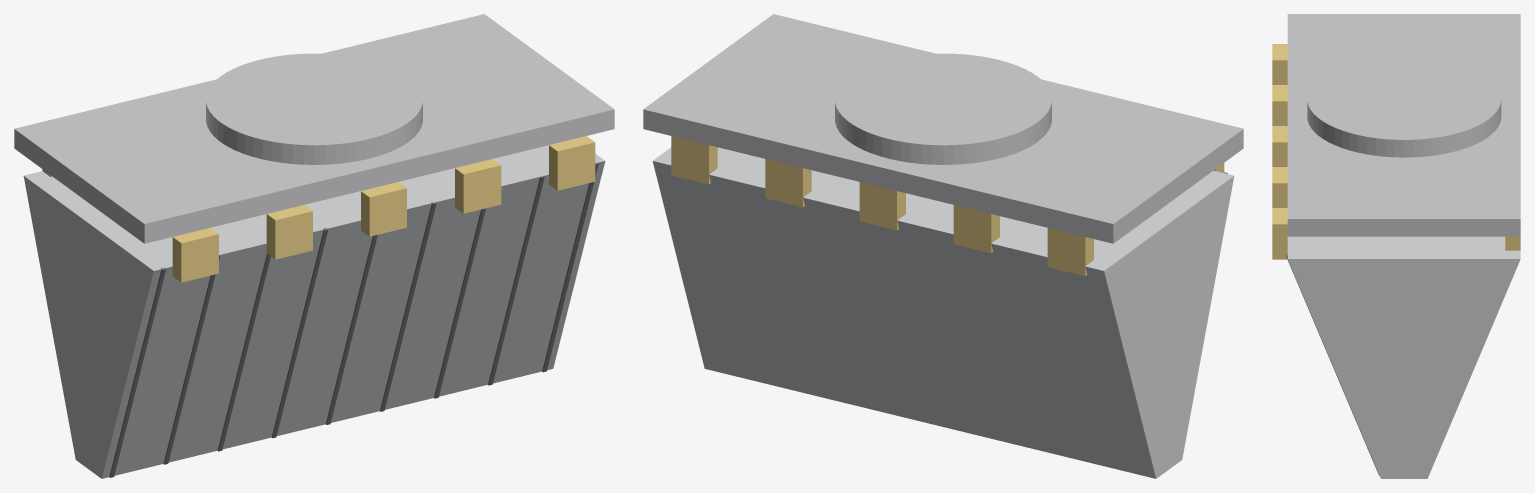
The model's file is prop16_aerospike_linear.glb.
3 renders of one model, left to right at view 1: azimuth 30°, elevation 25°; view 2: azimuth 150°, elevation 25°; view 3: azimuth 270°, elevation 25°, orthographic. The views are drawn at different scales.
Parts seen in each view (by area): view 1: ramps, thrust_structure, mount, chamber_rows, ramp_ribs; view 2: ramps, thrust_structure, mount, chamber_rows; view 3: thrust_structure, ramps, mount, chamber_rows, ramp_ribs.
Part boxes in pixels (x1,y1,x2,y2): ramps: (23,145,605,478); thrust_structure: (14,14,614,243); mount: (206,53,422,164); chamber_rows: (42,136,595,282); ramp_ribs: (109,162,598,477); ramps: (652,147,1234,478); thrust_structure: (643,14,1243,243); mount: (835,53,1051,164); chamber_rows: (671,136,1224,275); thrust_structure: (1287,14,1520,236); ramps: (1287,236,1520,478); mount: (1307,58,1501,157); chamber_rows: (1272,44,1520,259); ramp_ribs: (1285,254,1379,475).
Size of the model in its own units: 2.5 by 1.6 by 1.28.
